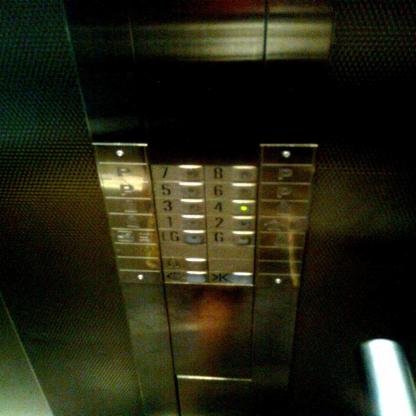1: (155, 212, 205, 231)
2: (204, 214, 258, 231)
3: (152, 197, 205, 215)
4: (203, 198, 258, 216)
5: (151, 180, 202, 198)
6: (202, 180, 258, 199)
7: (151, 165, 205, 182)
8: (202, 165, 258, 182)
G: (204, 230, 258, 246)
LG: (156, 228, 207, 248)
alarm: (160, 254, 208, 272)
close: (206, 268, 252, 286)
open: (162, 269, 206, 286)
